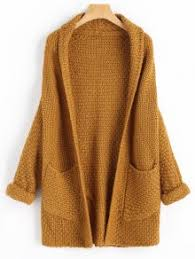C_cardigan sweater: (12, 29, 195, 253)
